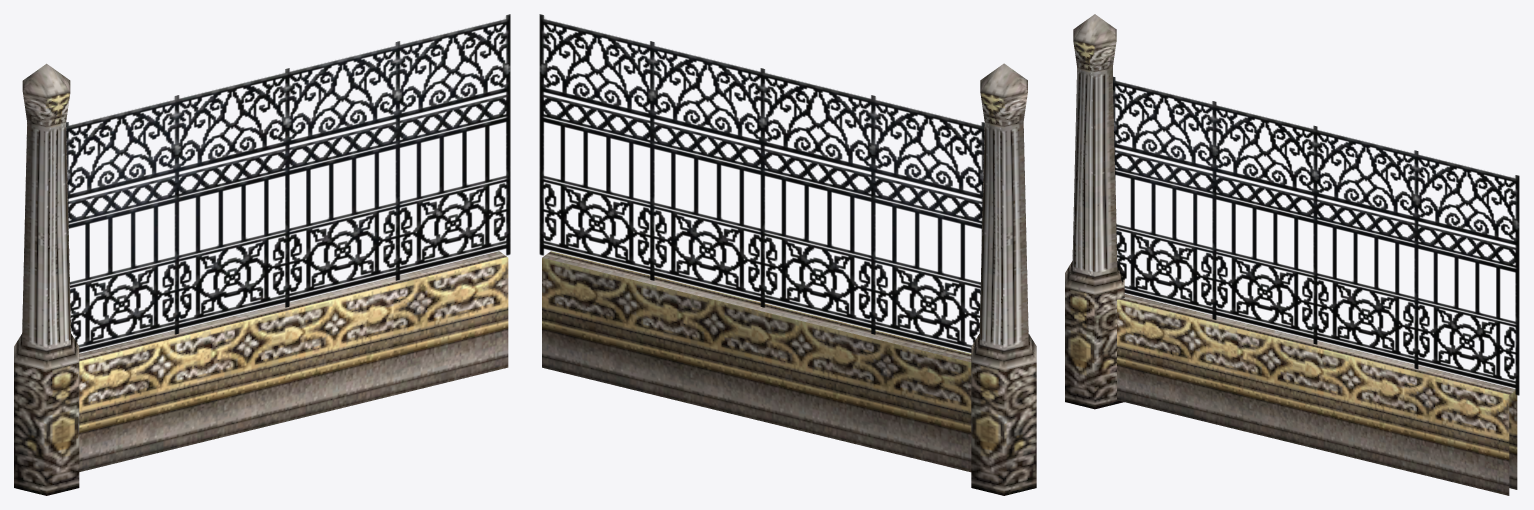
The model's file is rd_fen2.glb.
3 views of the same model, side by side, from view 1: azimuth 30°, elevation 25°; view 2: azimuth 150°, elevation 25°; view 3: azimuth 330°, elevation 25° (orthographic). The views are drawn at different scales.
Parts seen in each view (by area): view 1: rd_fen2-col; view 2: rd_fen2-col; view 3: rd_fen2-col.
Part boxes in pixels (left/top/right/bottom): rd_fen2-col: left=14, top=14, right=510, bottom=495; rd_fen2-col: left=539, top=14, right=1036, bottom=495; rd_fen2-col: left=1065, top=14, right=1519, bottom=495.
Size of the model in its own units: 5.64 by 4.51 by 0.6413.
2 materials, 2 textured.
